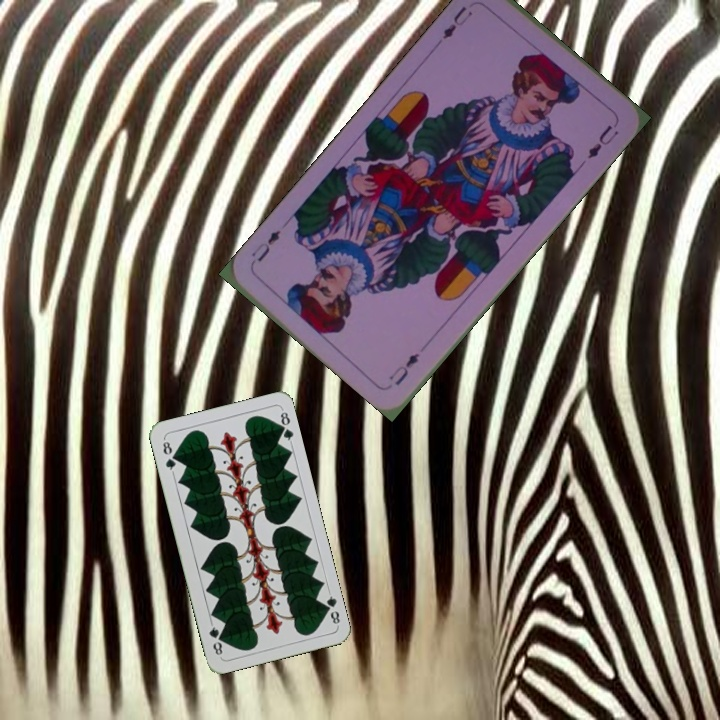EU: (438, 2, 476, 43), (385, 349, 423, 388)
G8: (319, 588, 343, 628), (159, 435, 178, 475)
